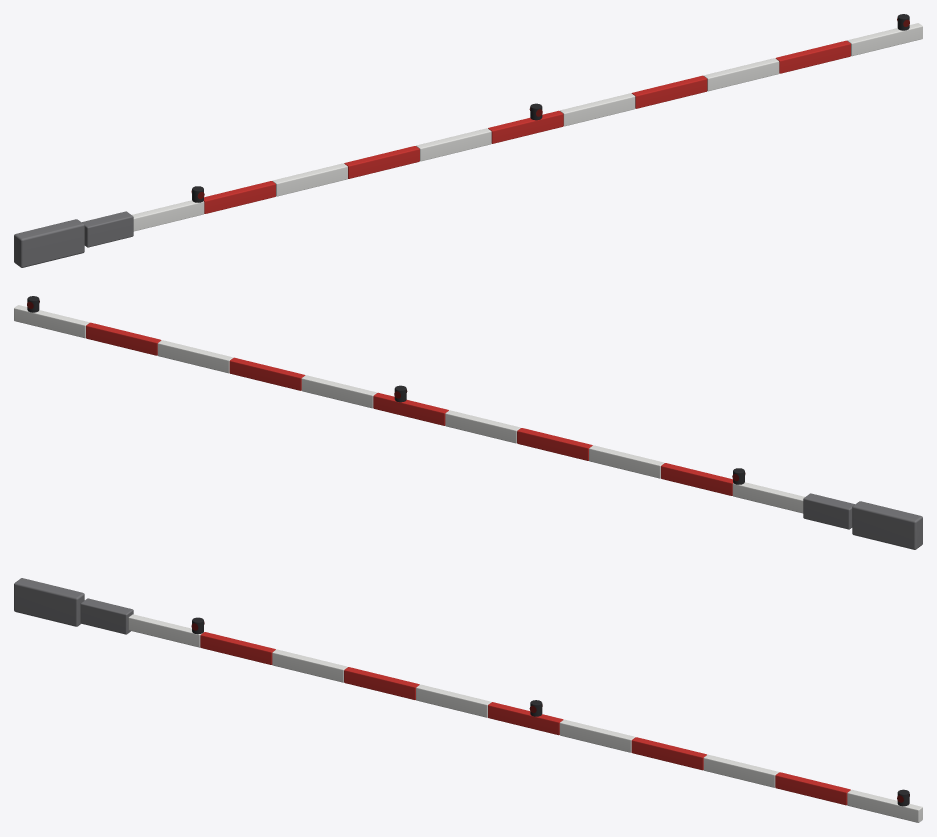
The model's file is lx_boom_7.glb.
The picture shows the model from 3 angles, top to bottom: view 1: azimuth 30°, elevation 25°; view 2: azimuth 150°, elevation 25°; view 3: azimuth 330°, elevation 25°; orthographic projection.
Visible parts, largest first — view 1: SM_lx_boom_7; view 2: SM_lx_boom_7; view 3: SM_lx_boom_7.
Boxes of the visible parts, x1,y1,x2,y2 form: SM_lx_boom_7: (14,14,922,267); SM_lx_boom_7: (14,296,922,549); SM_lx_boom_7: (14,578,922,822).
Size of the model in its own units: 7.75 by 0.275 by 0.12.
